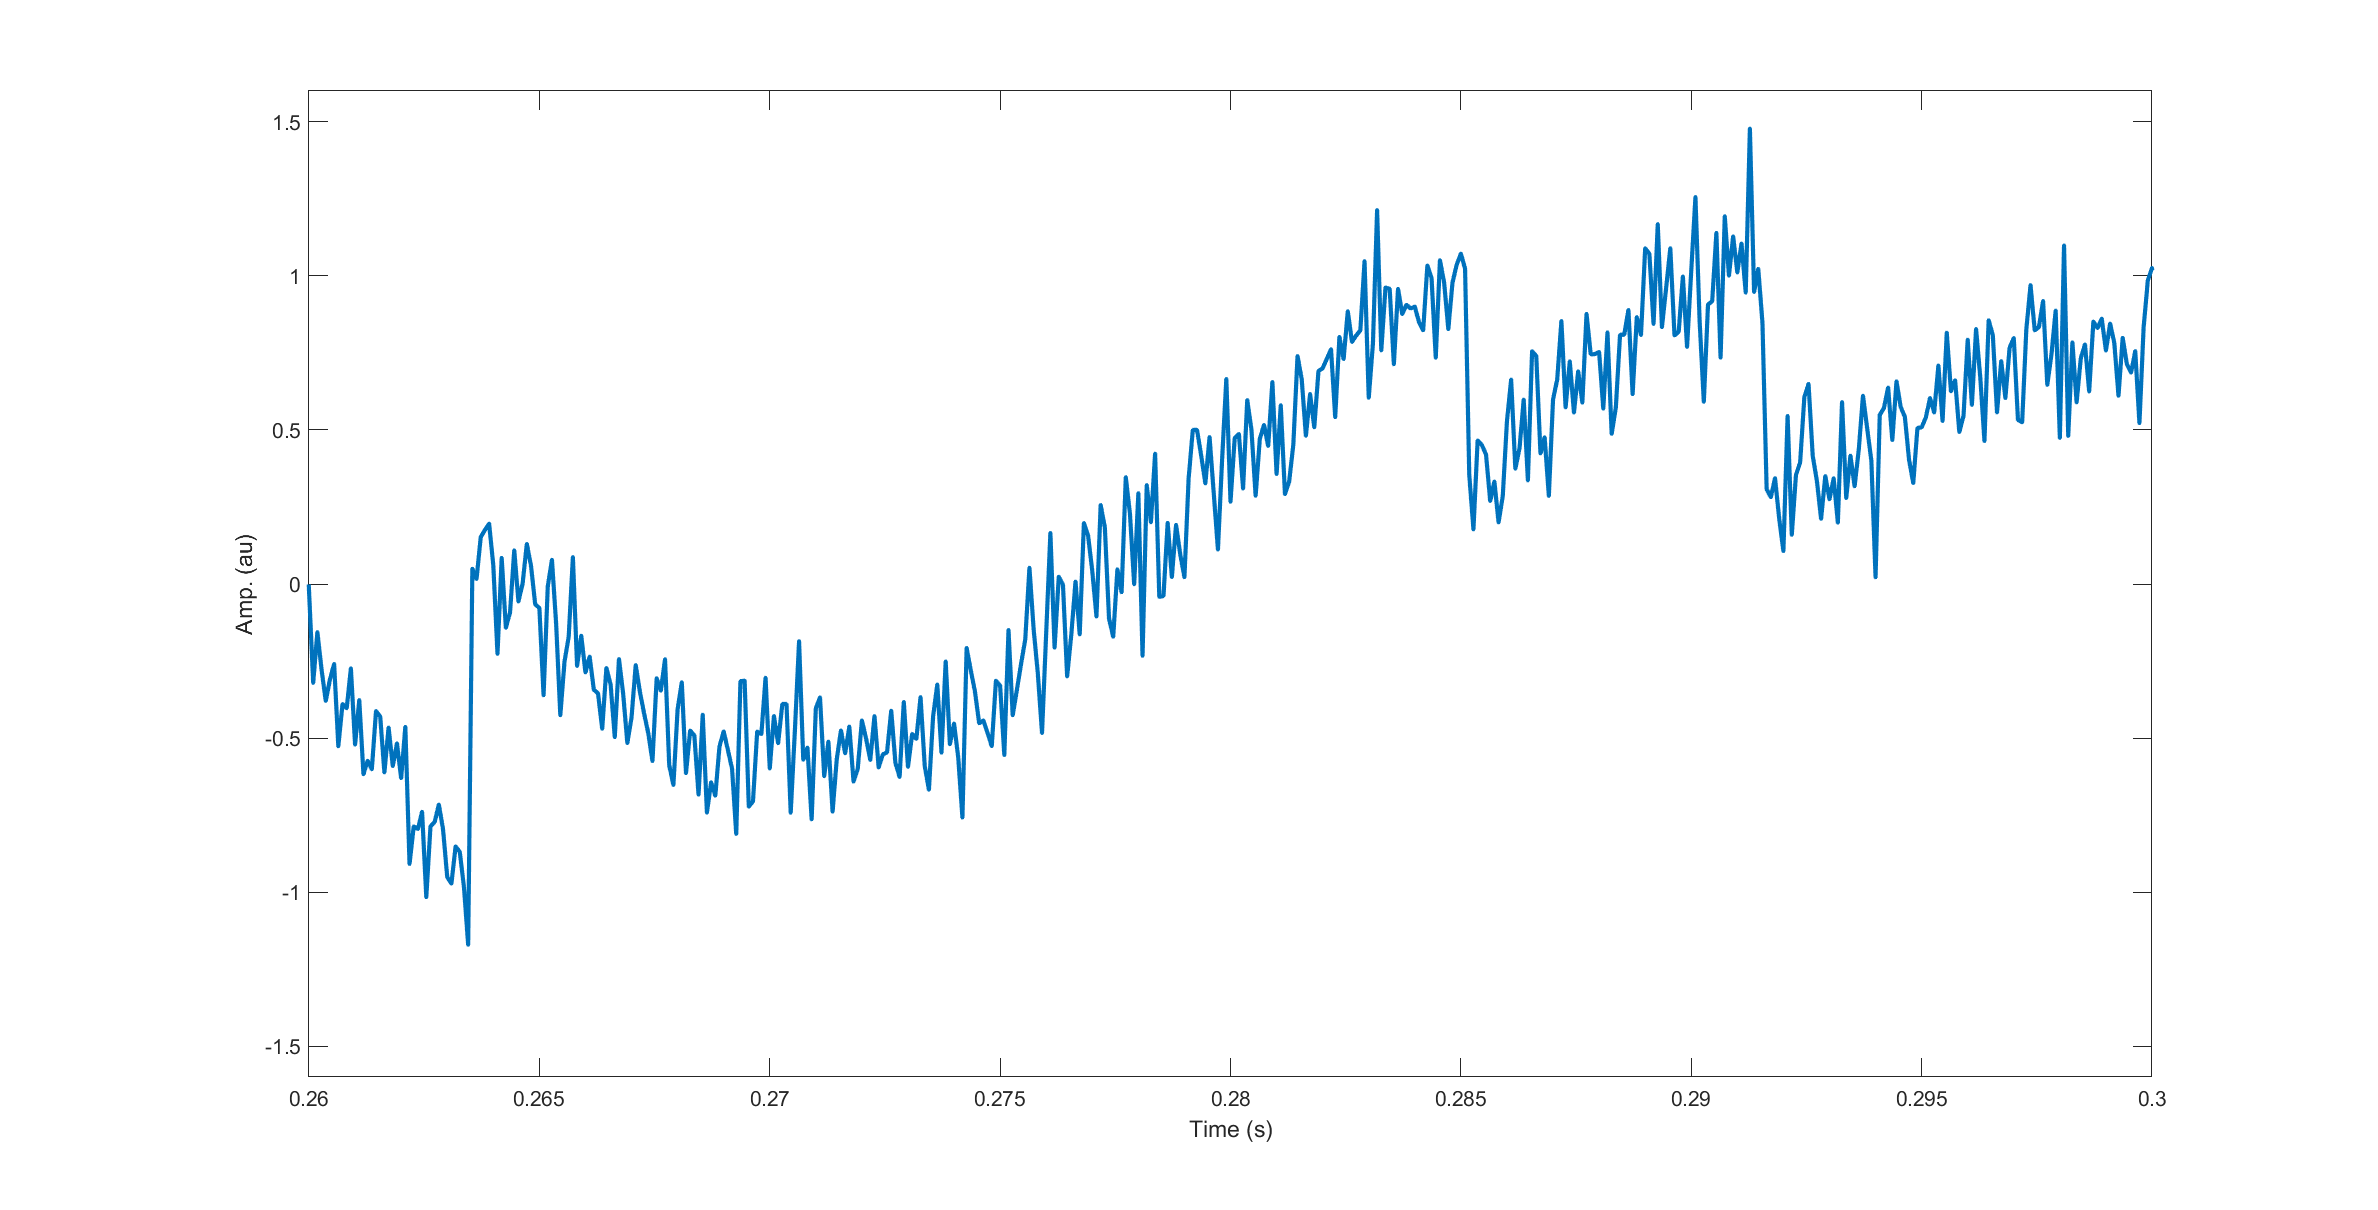negative_fringe: (457, 502, 613, 946)
positive_fringe: (1518, 103, 1782, 553), (1262, 204, 1481, 525)
